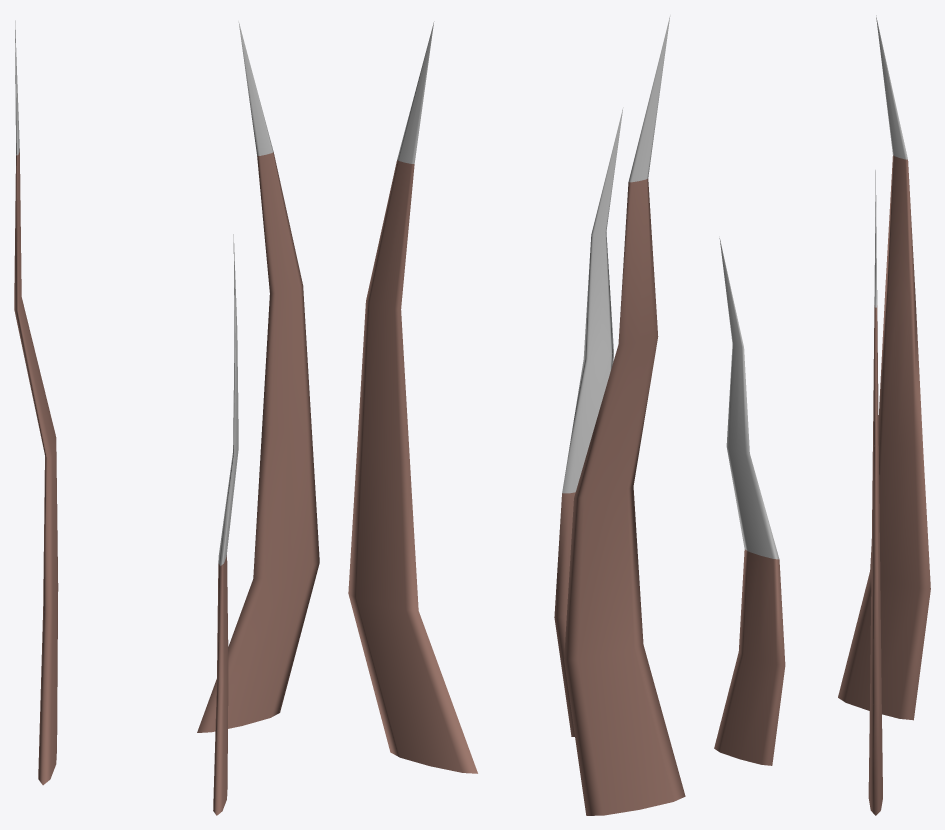
Rendered from west_grass.fbx.
3 renders of one model, left to right at view 1: azimuth 30°, elevation 25°; view 2: azimuth 150°, elevation 25°; view 3: azimuth 270°, elevation 25°, orthographic. The views are drawn at different scales.
Visible parts, largest first — view 1: pCone1, pCone2, pCone3; view 2: pCone2, pCone1, pCone3; view 3: pCone2, pCone3, pCone1.
Boxes of the visible parts, <box> form: pCone1: <box>197,21,319,732</box>; pCone2: <box>14,20,58,785</box>; pCone3: <box>213,234,238,815</box>; pCone2: <box>564,15,685,815</box>; pCone1: <box>348,21,477,773</box>; pCone3: <box>554,107,623,736</box>; pCone2: <box>838,15,930,720</box>; pCone3: <box>714,238,785,765</box>; pCone1: <box>868,170,882,815</box>.
Bounding box in the file's own units: 0.6816 × 1.63 × 0.4674.
